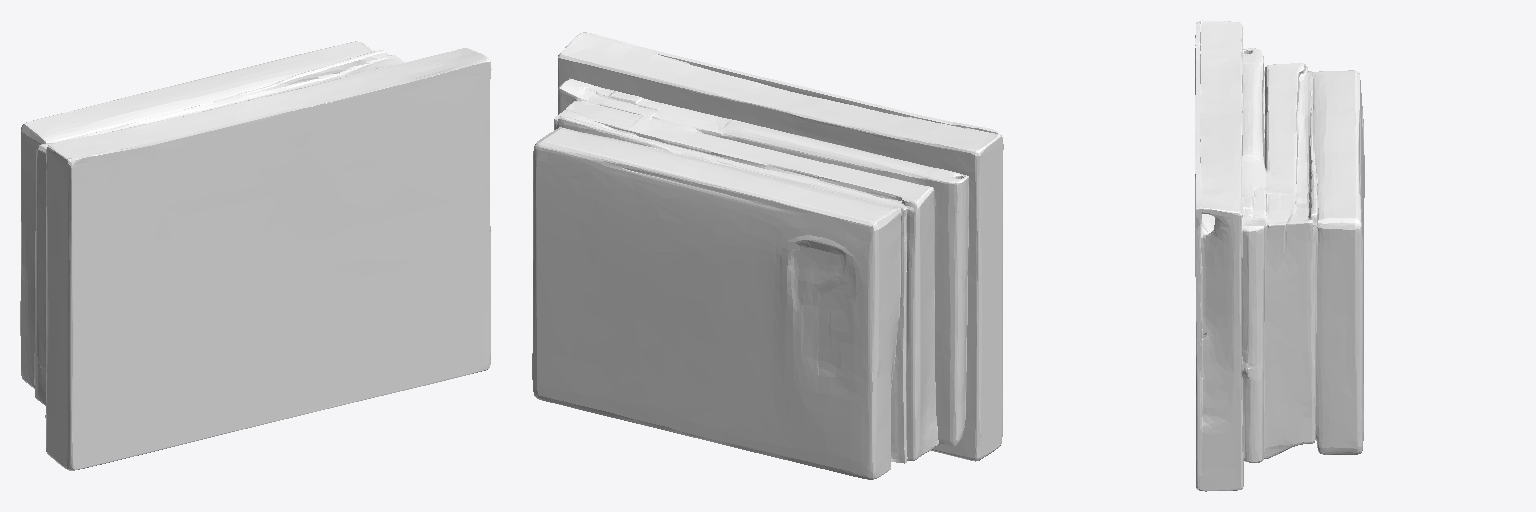
The robot description file, URDF, robot "books":
<?xml version="1.0" ?>
<robot name="books">
    <link name="baseLink">
        <contact>
        <friction_anchor/>
        <lateral_friction value="1.5"/>
        <rolling_friction value="0.1"/>
        <spinning_friction value="0.1"/>
        <contact_cfm value="1e-5"/>
        <contact_erp value="0.8"/>
        </contact>
        <visual>
            <origin rpy="0 0 0" xyz="0 0 0"/>
            <geometry>
                <mesh filename="assets/objects/books/meshes/books_textured.obj" scale="1 1 1"/>
            </geometry>
            <material name="white">
                <color rgba="1 1 1 1"/>
            </material>
        </visual>
        <collision>
            <origin rpy="0 0 0" xyz="0 0 0"/>
            <geometry>
                <mesh filename="assets/objects/books/meshes/books_textured.obj" scale="1 1 1"/>
            </geometry>
        </collision>
        <inertial>
            <origin rpy="0 0 0" xyz="0 0 0"/>
            <mass value="1.0"/>
            <inertia ixx="0.1" ixy="0" ixz="0" iyy="0.1" iyz="0" izz="0.1"/>
        </inertial>
    </link>
</robot>

--- Facts derived from the render (not from the file) ---
The picture shows the robot from 3 angles, left to right: view 1: azimuth 30°, elevation 25°; view 2: azimuth 150°, elevation 25°; view 3: azimuth 270°, elevation 25°; orthographic projection.
Robot: books — 1 links, 0 joints (none); root link baseLink; default pose: every joint at zero.
Links seen in each view (by area): view 1: baseLink; view 2: baseLink; view 3: baseLink.
Link boxes in pixels (x1,y1,x2,y2): baseLink: [20, 41, 491, 470]; baseLink: [532, 32, 1003, 479]; baseLink: [1195, 20, 1364, 491].
Bounding box of the posed robot: 1 × 0.3815 × 0.7094 m (x, y, z).
Meshes: 1 distinct files referenced, 1 mesh visuals loaded (1 OBJ).
